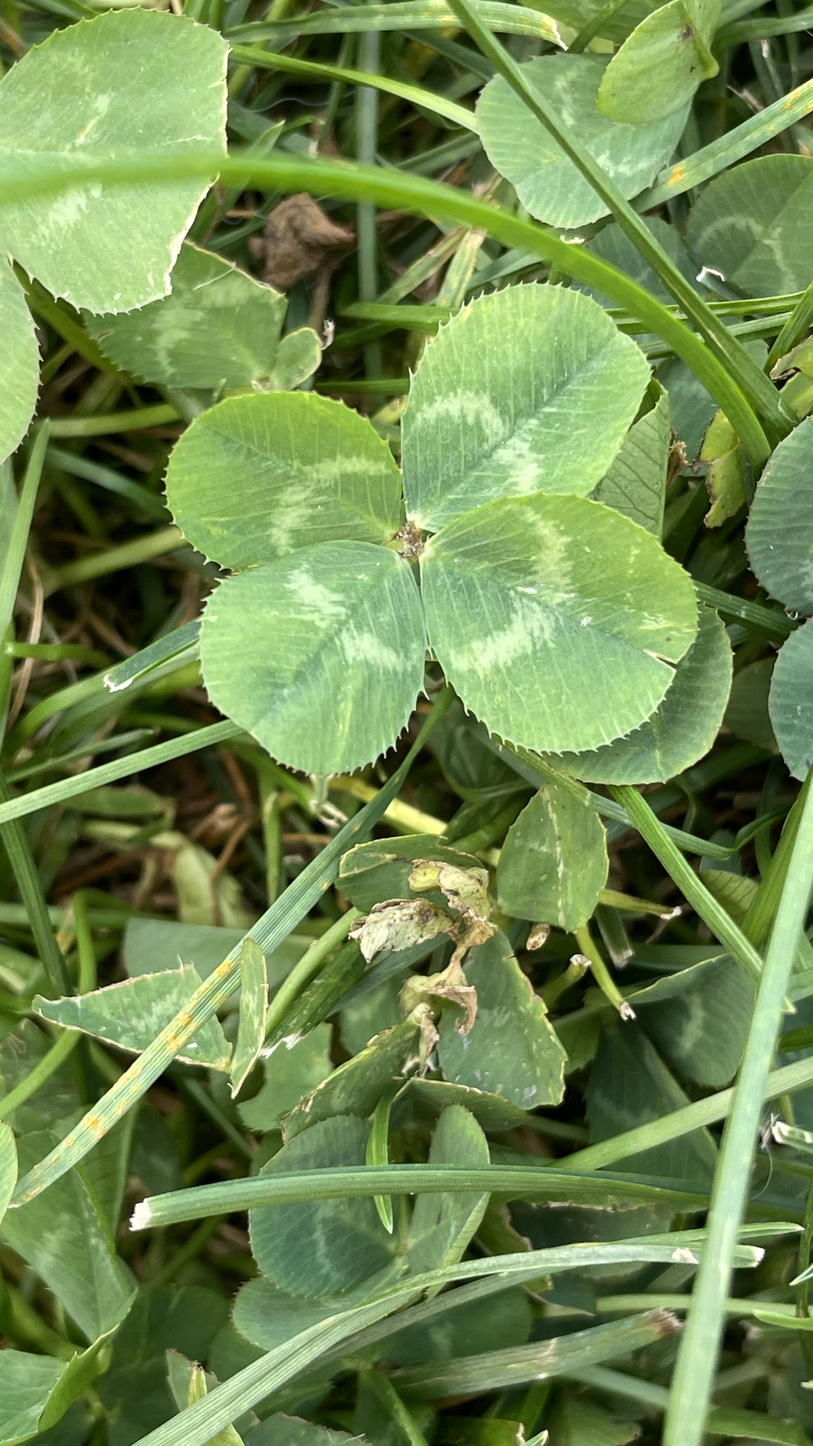4-Leaf-Clovers: (169, 285, 695, 778)
